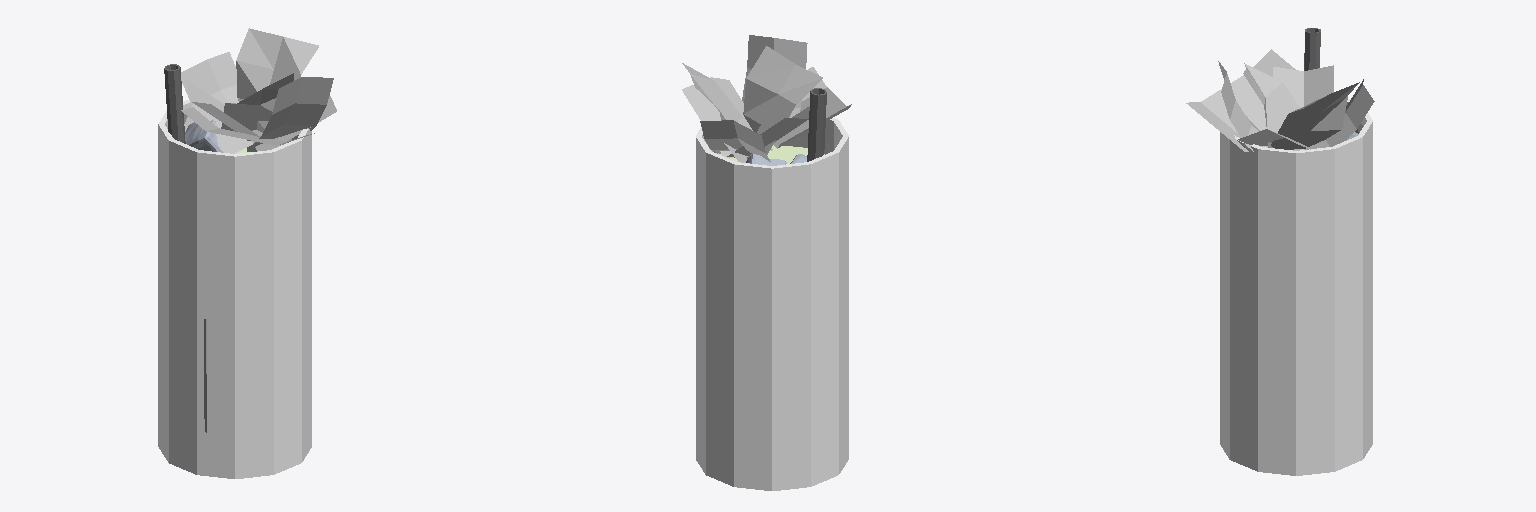
Rendered from Mojito_Low_Poly.obj.
The picture shows the model from 3 angles: view 1: azimuth 30°, elevation 25°; view 2: azimuth 150°, elevation 25°; view 3: azimuth 270°, elevation 25°; orthographic projection.
Visible parts, largest first — view 1: Collins_Glass_Cylinder.002, Mint_Leaf_013_Plane.024, Mint_Leaf_015_Plane.015, Mint_Leaf_001_Plane.006, Mint_Leaf_012_Plane.007, Metal_Straw_Cylinder, Mint_Leaf_016_Plane.017, Mint_Leaf_027_Plane.012, Ice_Cube_020_Cube.031; view 2: Collins_Glass_Cylinder.002, Mint_Leaf_012_Plane.007, Mint_Leaf_001_Plane.006, Mint_Leaf_015_Plane.015, Mint_Leaf_005_Plane.008, Metal_Straw_Cylinder, Mint_Leaf_013_Plane.024, Mint_Leaf_027_Plane.012, Mint_Leaf_016_Plane.017; view 3: Collins_Glass_Cylinder.002, Mint_Leaf_013_Plane.024, Mint_Leaf_027_Plane.012, Mint_Leaf_012_Plane.007, Mint_Leaf_016_Plane.017, Mint_Leaf_001_Plane.006, Mint_Leaf_015_Plane.015, Metal_Straw_Cylinder.
Boxes of the visible parts, <box> form: Collins_Glass_Cylinder.002: <box>158,100,311,478</box>; Mint_Leaf_013_Plane.024: <box>236,28,318,101</box>; Mint_Leaf_015_Plane.015: <box>249,77,333,149</box>; Mint_Leaf_001_Plane.006: <box>181,52,252,153</box>; Mint_Leaf_012_Plane.007: <box>221,73,293,145</box>; Metal_Straw_Cylinder: <box>164,64,185,143</box>; Mint_Leaf_016_Plane.017: <box>184,78,259,136</box>; Mint_Leaf_027_Plane.012: <box>181,107,314,151</box>; Ice_Cube_020_Cube.031: <box>185,119,223,152</box>; Collins_Glass_Cylinder.002: <box>696,118,848,490</box>; Mint_Leaf_012_Plane.007: <box>743,46,822,157</box>; Mint_Leaf_001_Plane.006: <box>700,120,770,161</box>; Mint_Leaf_015_Plane.015: <box>742,35,807,117</box>; Mint_Leaf_005_Plane.008: <box>682,77,772,158</box>; Metal_Straw_Cylinder: <box>807,88,826,161</box>; Mint_Leaf_013_Plane.024: <box>682,63,747,162</box>; Mint_Leaf_027_Plane.012: <box>747,67,851,159</box>; Mint_Leaf_016_Plane.017: <box>727,106,809,157</box>; Collins_Glass_Cylinder.002: <box>1220,99,1372,475</box>; Mint_Leaf_013_Plane.024: <box>1271,82,1359,149</box>; Mint_Leaf_027_Plane.012: <box>1186,49,1295,151</box>; Mint_Leaf_012_Plane.007: <box>1243,63,1303,150</box>; Mint_Leaf_016_Plane.017: <box>1273,65,1333,107</box>; Mint_Leaf_001_Plane.006: <box>1304,79,1374,149</box>; Mint_Leaf_015_Plane.015: <box>1218,61,1267,151</box>; Metal_Straw_Cylinder: <box>1304,28,1320,70</box>.
Size of the model in its own units: 0.0775 by 0.1806 by 0.0799.